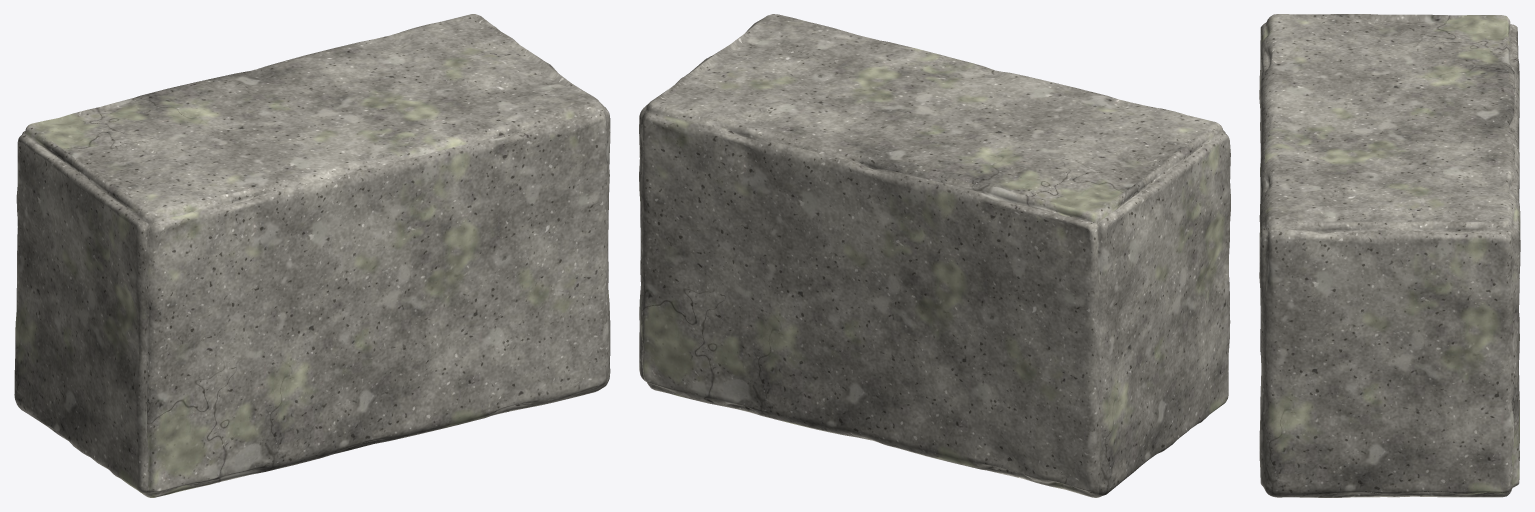
The model's file is stone_wall_block_medium.glb.
3 views of the same model, side by side, from view 1: azimuth 30°, elevation 25°; view 2: azimuth 150°, elevation 25°; view 3: azimuth 270°, elevation 25° (orthographic). The views are drawn at different scales.
Parts seen in each view (by area): view 1: stone_wall_block_medium; view 2: stone_wall_block_medium; view 3: stone_wall_block_medium.
Part boxes in pixels (left/top/right/bottom): stone_wall_block_medium: left=14, top=14, right=610, bottom=497; stone_wall_block_medium: left=639, top=14, right=1230, bottom=497; stone_wall_block_medium: left=1259, top=14, right=1520, bottom=497.
Bounding box in the file's own units: 1.21 × 0.7067 × 0.6032.
Materials: 1 (1 with a texture image).
